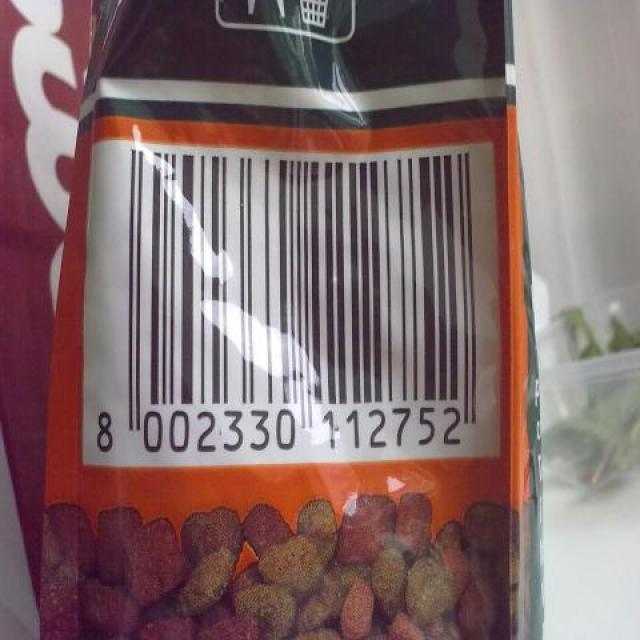Barcode: (78, 132, 505, 461)
